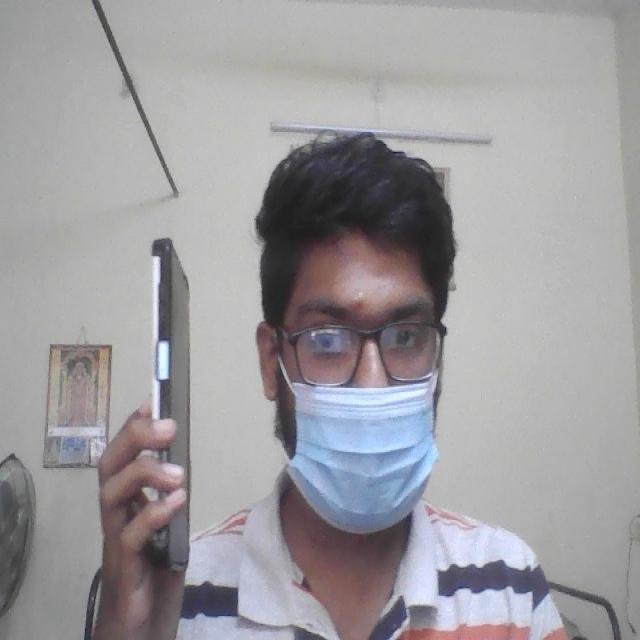Mobile: (139, 233, 196, 575)
